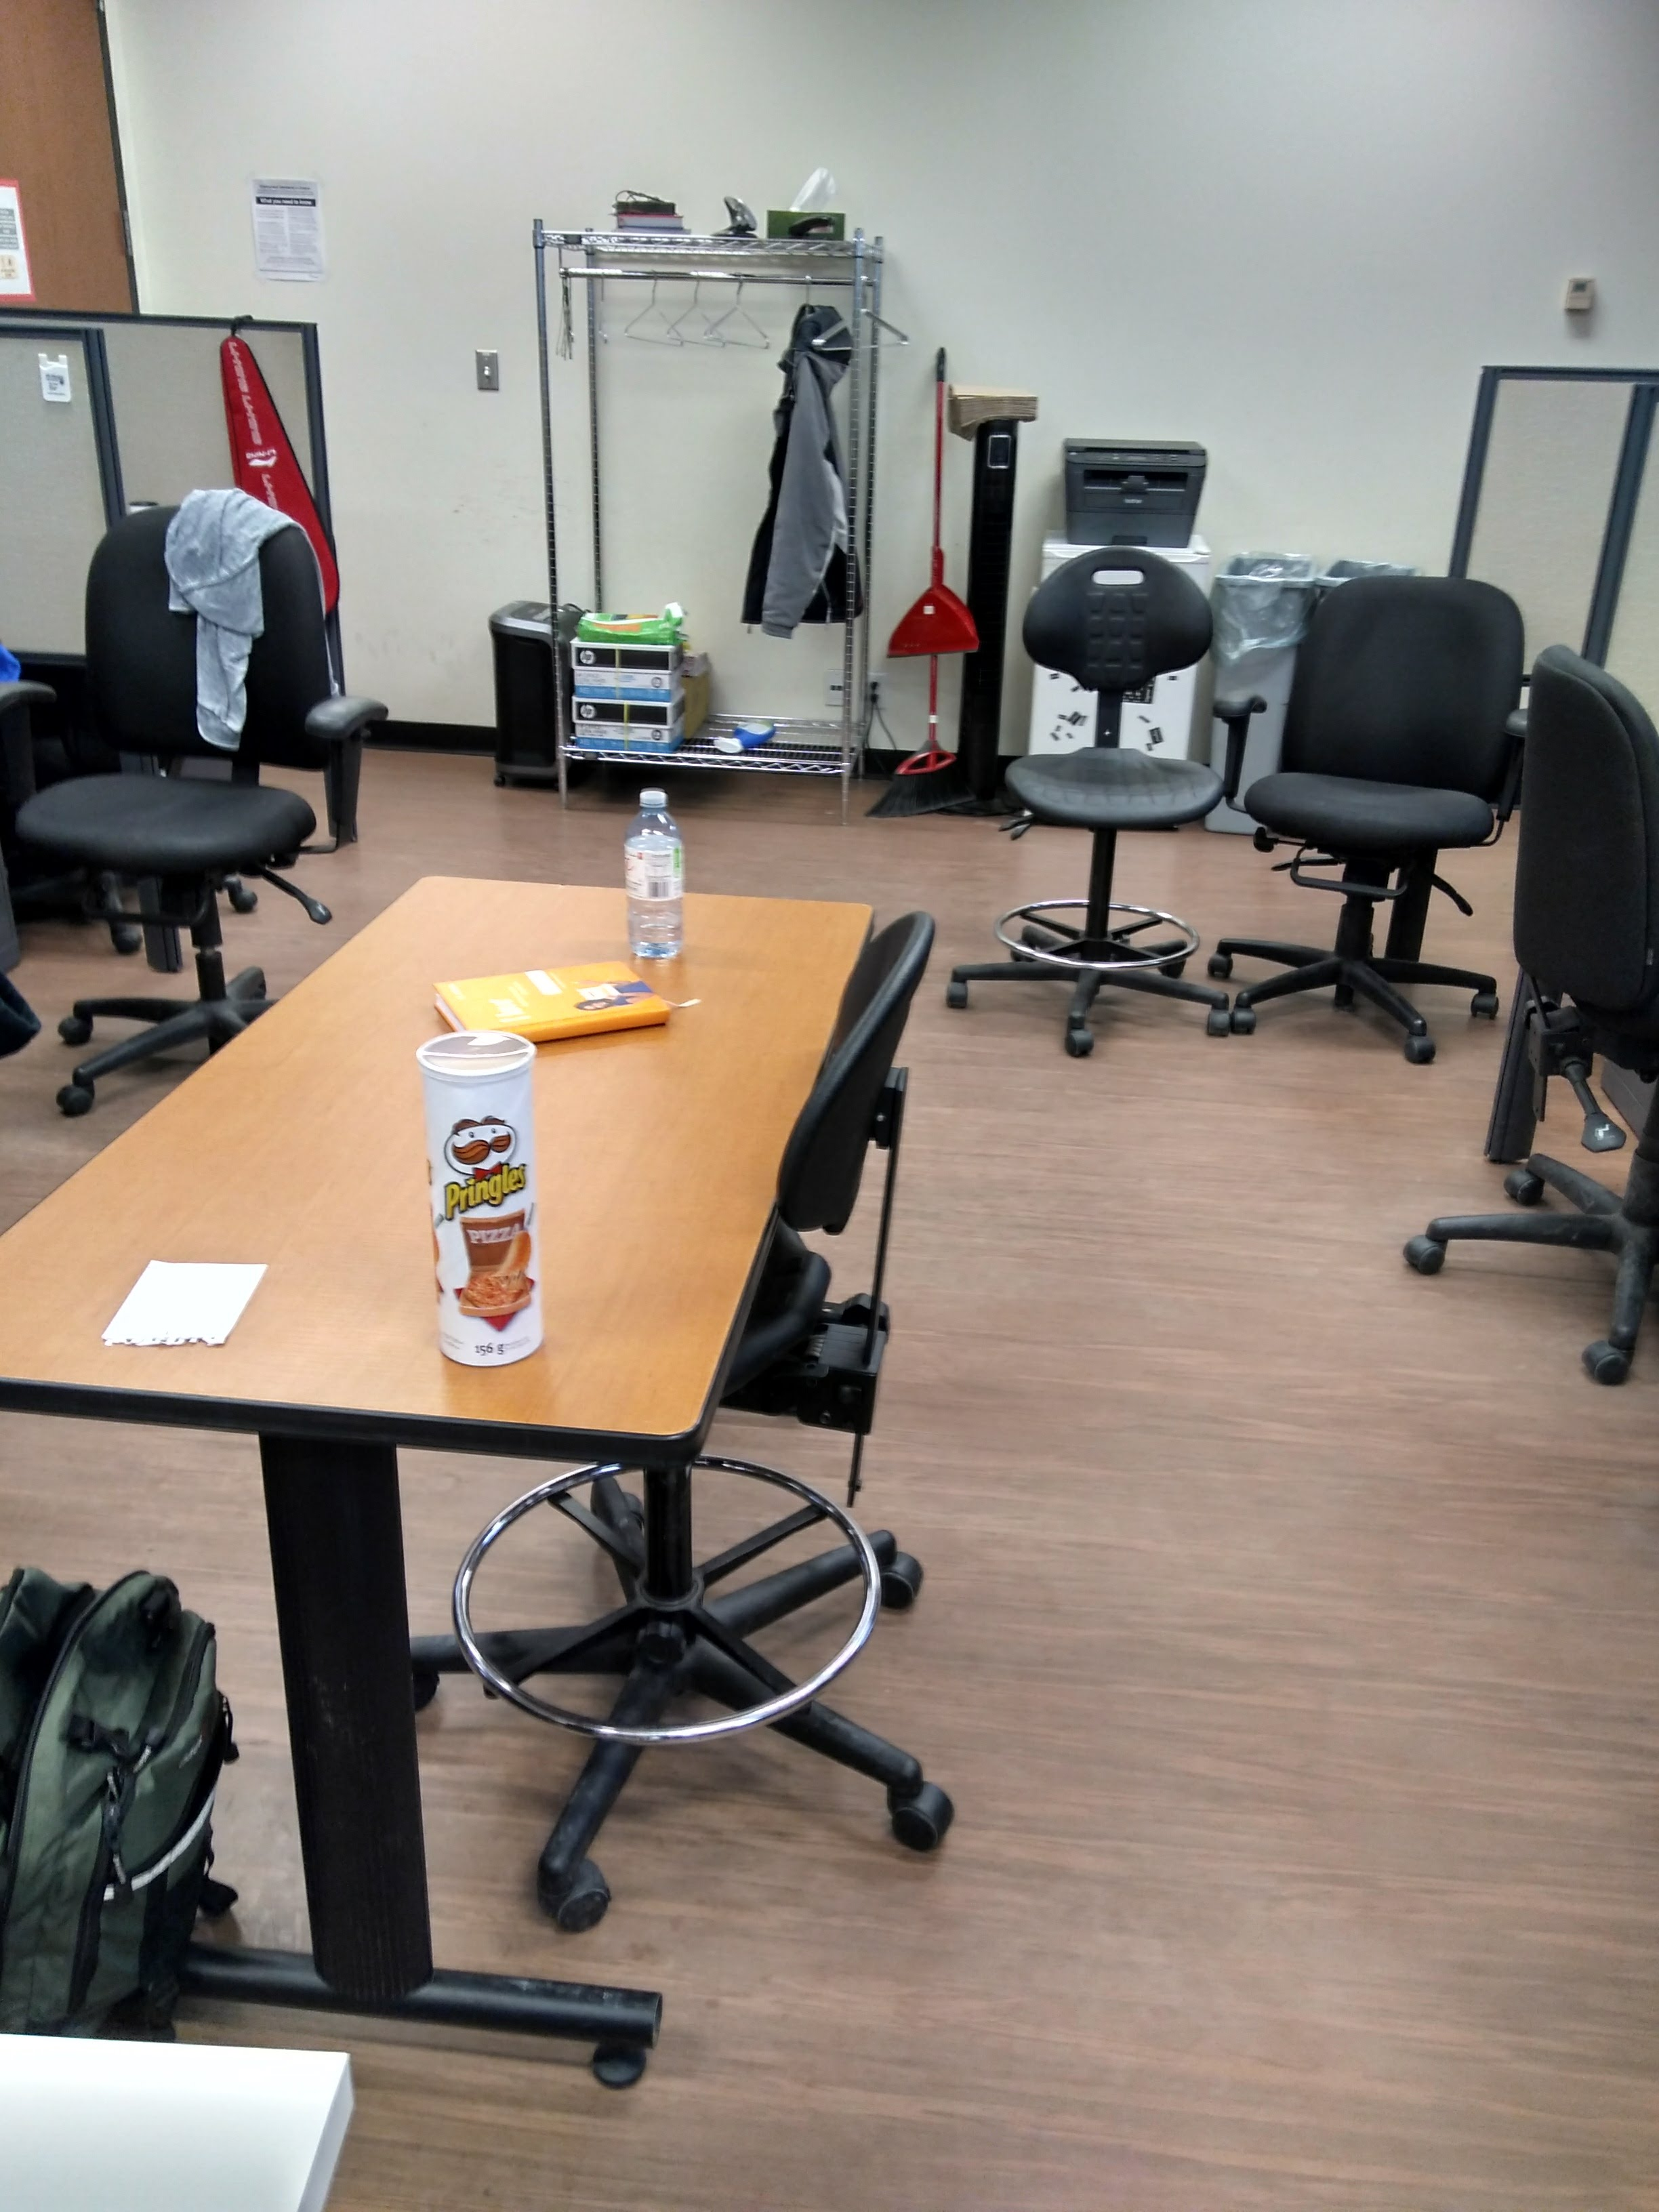pringles: (394, 1017, 570, 1385)
